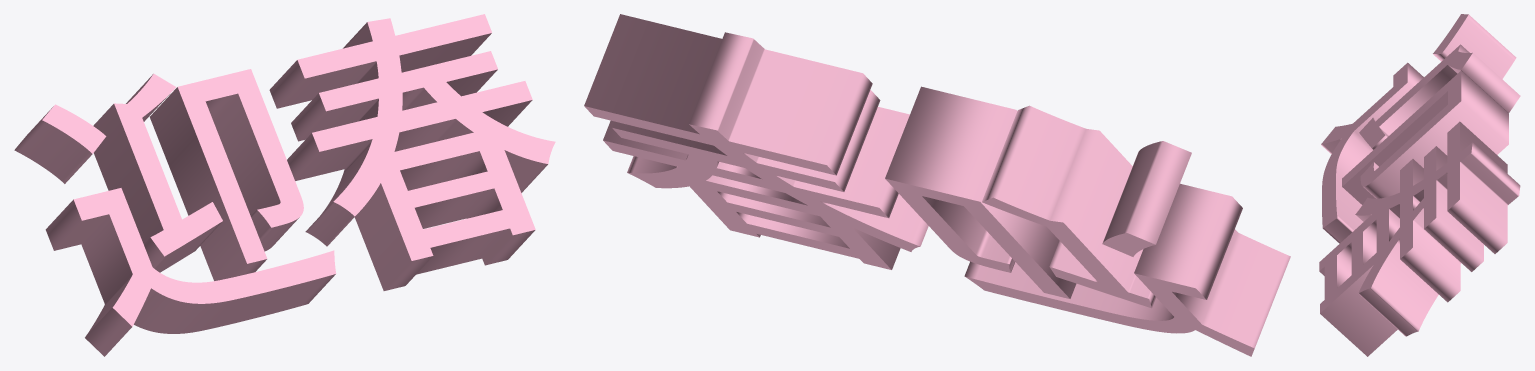
Rendered from geisyun.obj.
The picture shows the model from 3 angles, left to right: view 1: azimuth 30°, elevation 25°; view 2: azimuth 150°, elevation 25°; view 3: azimuth 270°, elevation 25°; orthographic projection. The views are drawn at different scales.
Parts seen in each view (by area): view 1: text_テキスト; view 2: text_テキスト; view 3: text_テキスト.
Boxes of the visible parts, x1,y1,x2,y2 form: text_テキスト: (14,14,555,356); text_テキスト: (584,14,1290,356); text_テキスト: (1319,14,1520,356).
Size of the model in its own units: 0.6787 by 0.2984 by 0.2984.
